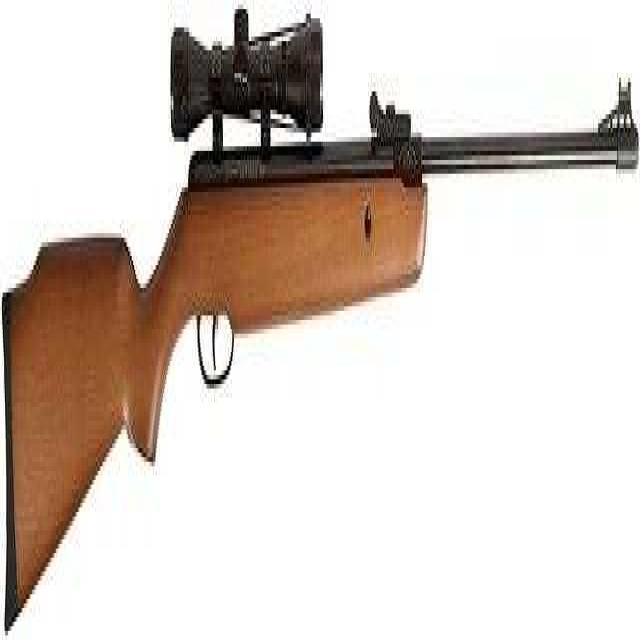heavyweapon: (2, 15, 640, 618)
